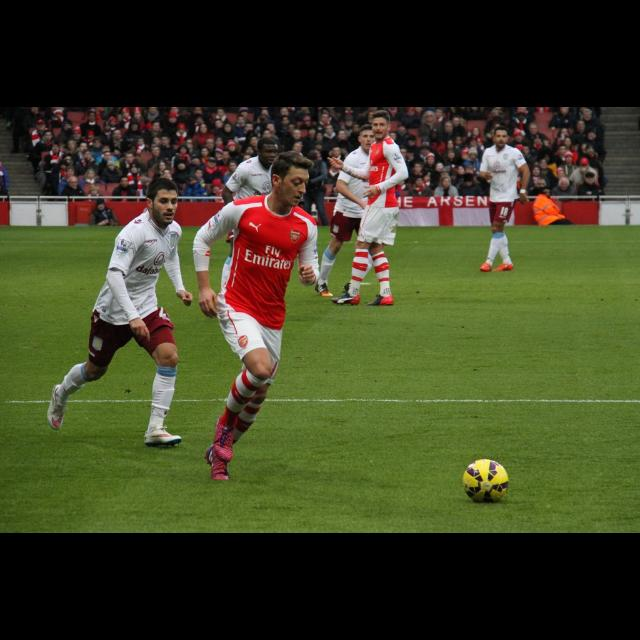Football: (463, 453, 512, 501)
